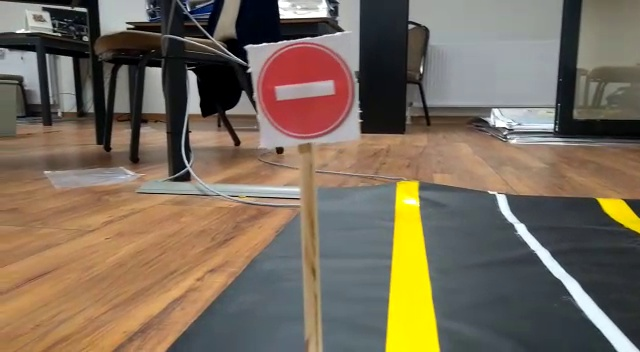girisi_olmayan_yol: (252, 36, 355, 146)
